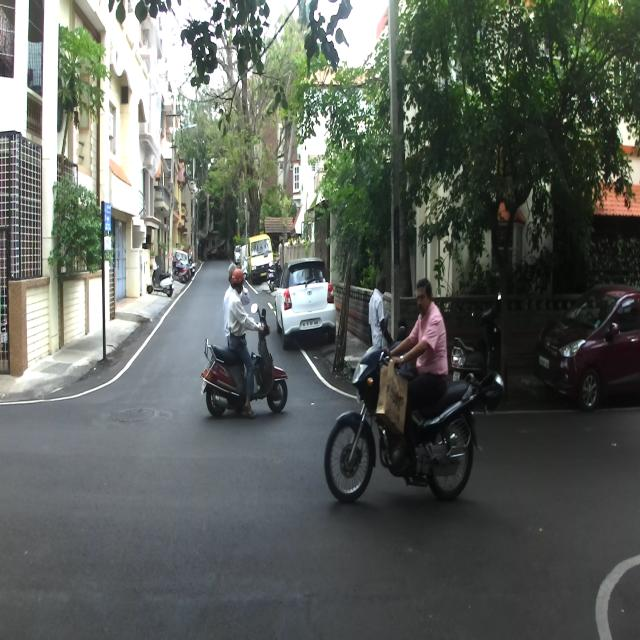car ahead at: (531, 281, 640, 407)
motorcycle ahead at: (331, 334, 478, 515), (202, 330, 288, 419), (272, 260, 336, 350)
